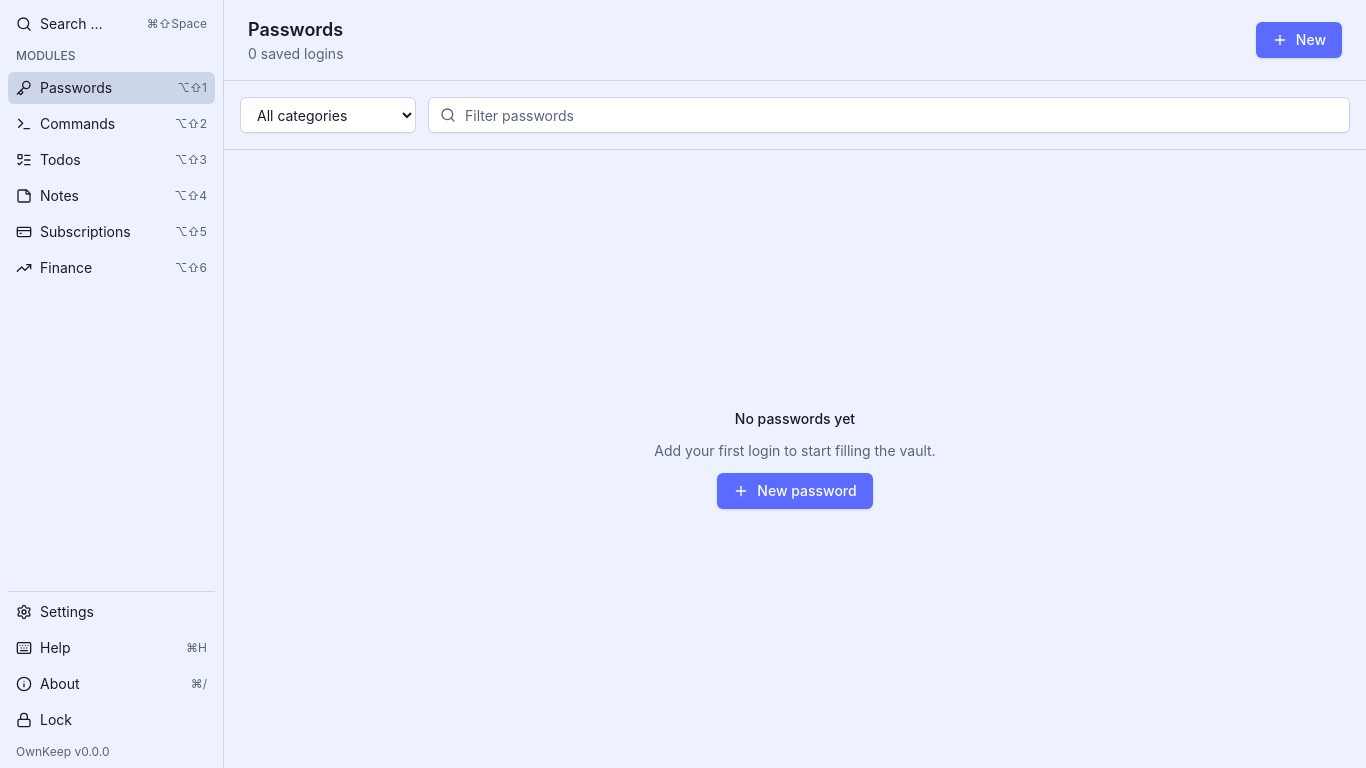
Test: Dashboard › renders the first enabled module by default and switches panes by click
Expected: the heading "Passwords" is shown, 248,19 -> 343,40
Click the button "Commands ⌥⇧2": [112, 124] box 8,108 -> 215,140
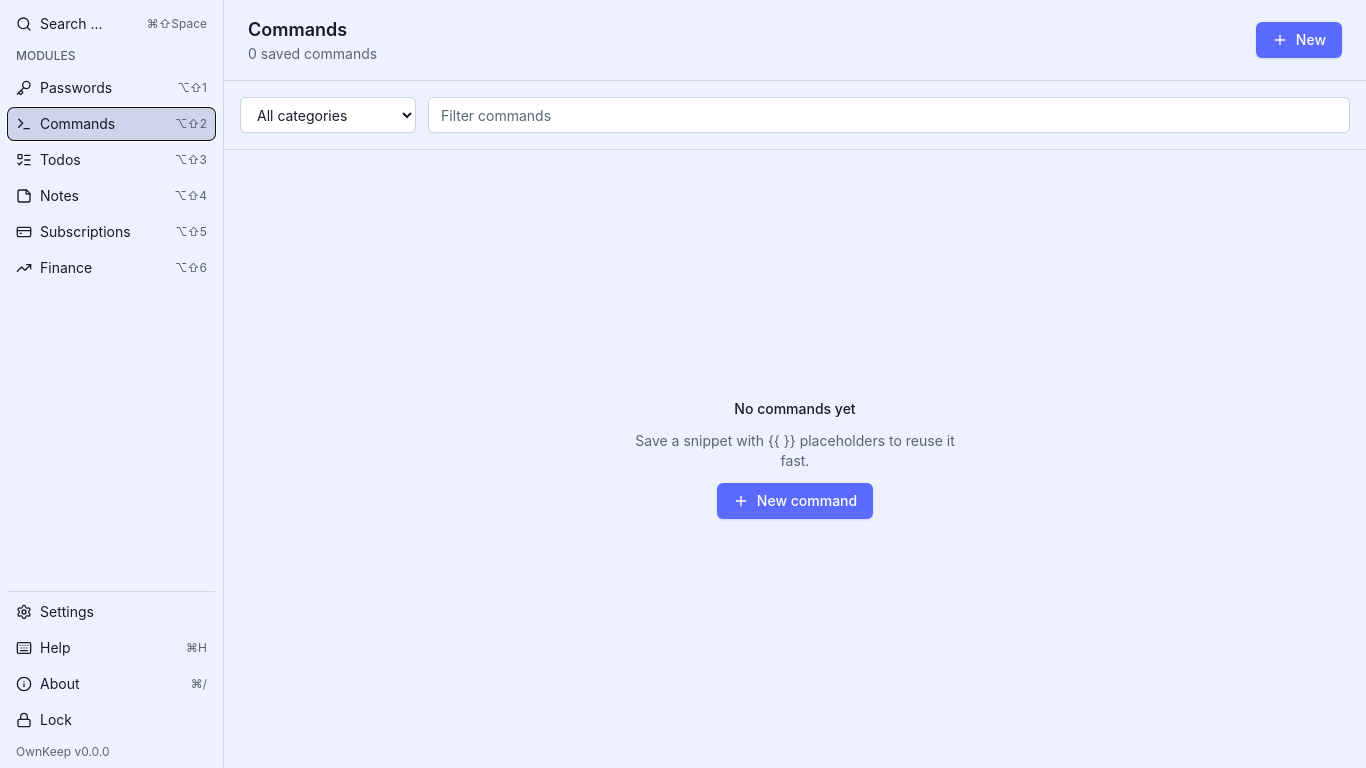
Expected: the heading "Commands" is shown, 248,19 -> 347,40
